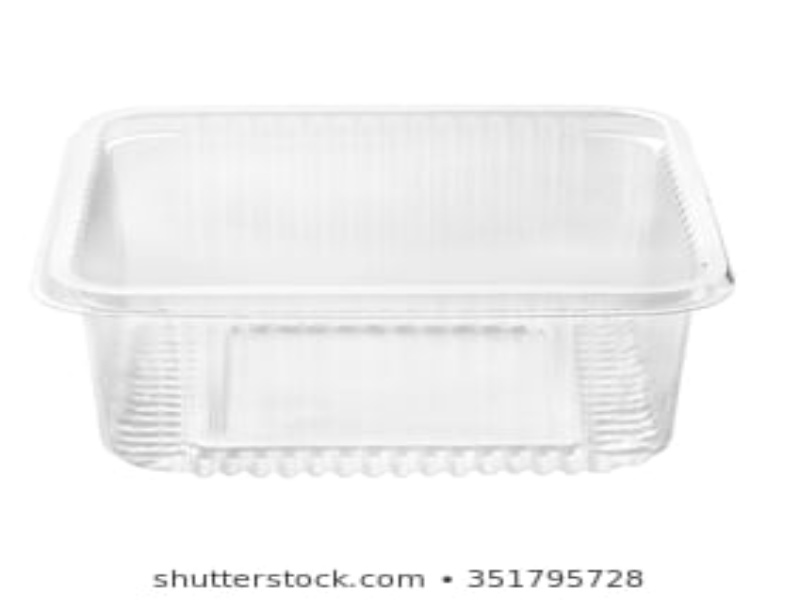plastic-container: (47, 108, 724, 479)
